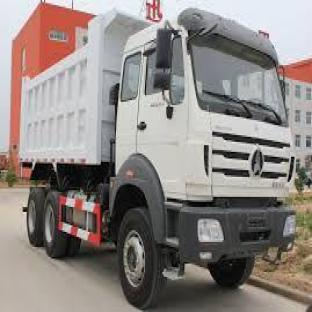Vehicle: (14, 33, 304, 307)
